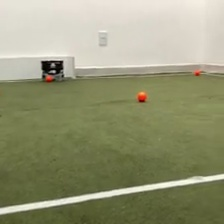ball: (136, 90, 147, 102), (44, 73, 53, 83), (193, 68, 201, 76)
goal: (1, 55, 77, 81)
robot: (39, 59, 65, 82)
